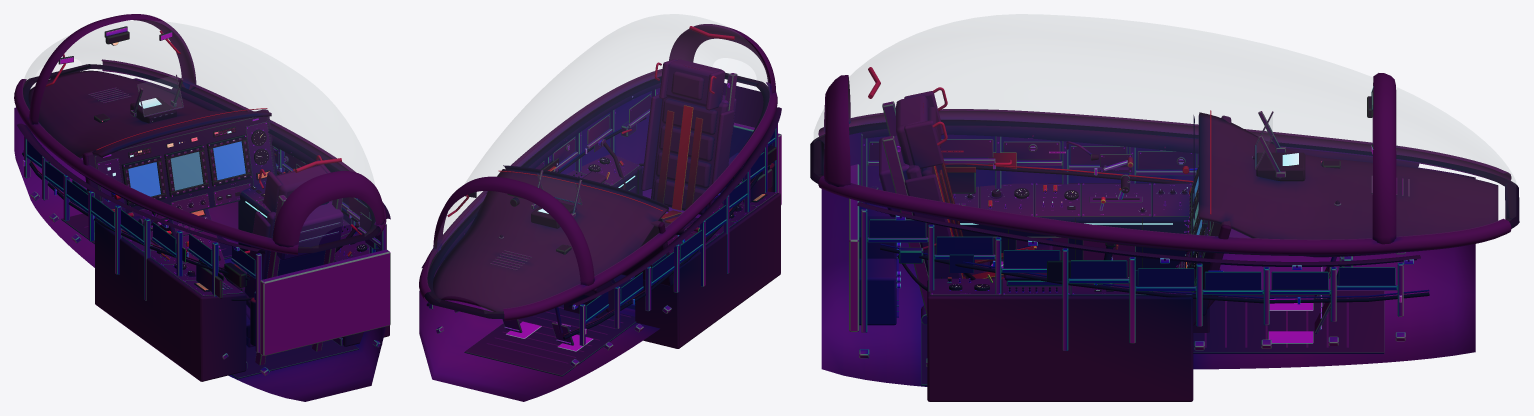
File: MilanCockpit.glb
3 renders of one model, left to right at view 1: azimuth 30°, elevation 25°; view 2: azimuth 150°, elevation 25°; view 3: azimuth 270°, elevation 25°, orthographic. The views are drawn at different scales.
Visible parts, largest first — view 1: MilanCockpit, MilanCockpitGlas; view 2: MilanCockpit, MilanCockpitGlas; view 3: MilanCockpit, MilanCockpitGlas.
Boxes of the visible parts, <box> form: MilanCockpit: <box>14,14,390,401</box>; MilanCockpitGlas: <box>23,21,374,184</box>; MilanCockpit: <box>419,24,781,401</box>; MilanCockpitGlas: <box>428,14,769,268</box>; MilanCockpit: <box>810,67,1519,401</box>; MilanCockpitGlas: <box>814,14,1515,186</box>.
Size of the model in its own units: 1.43 by 1.78 by 3.49.
